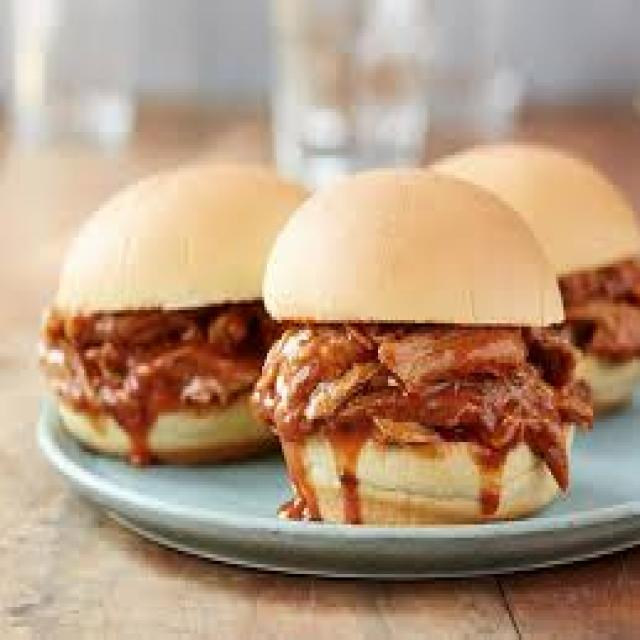Organik: (273, 156, 578, 523), (55, 154, 301, 464), (459, 125, 640, 392)
